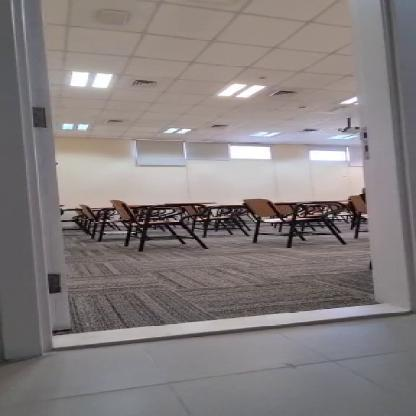open: (3, 0, 416, 370)
